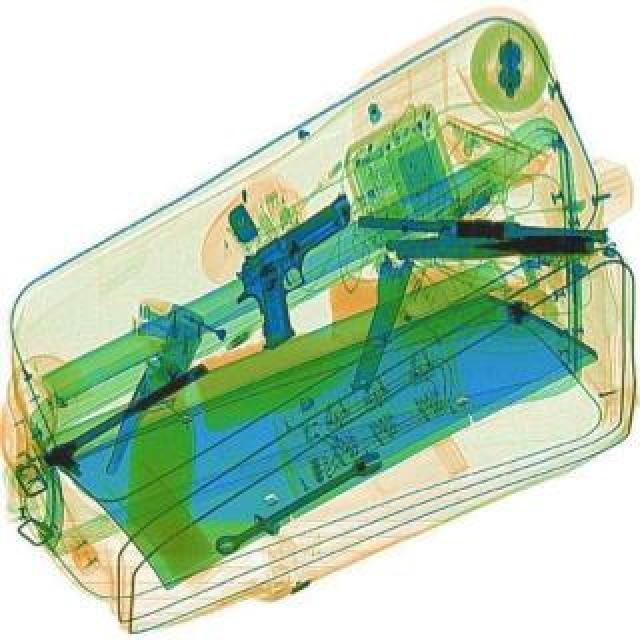gun: (210, 190, 404, 352)
scissors: (212, 444, 390, 560)
